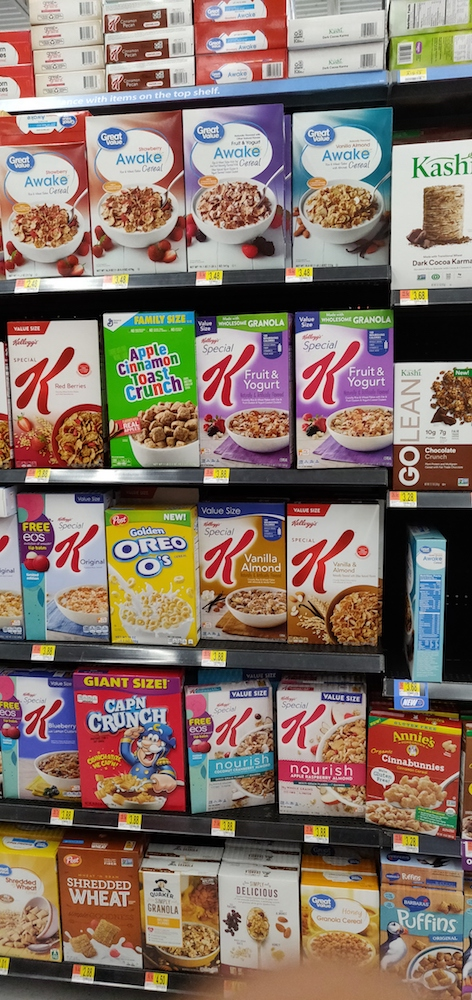Oreo Golden-568301011: (102, 512, 204, 644)
